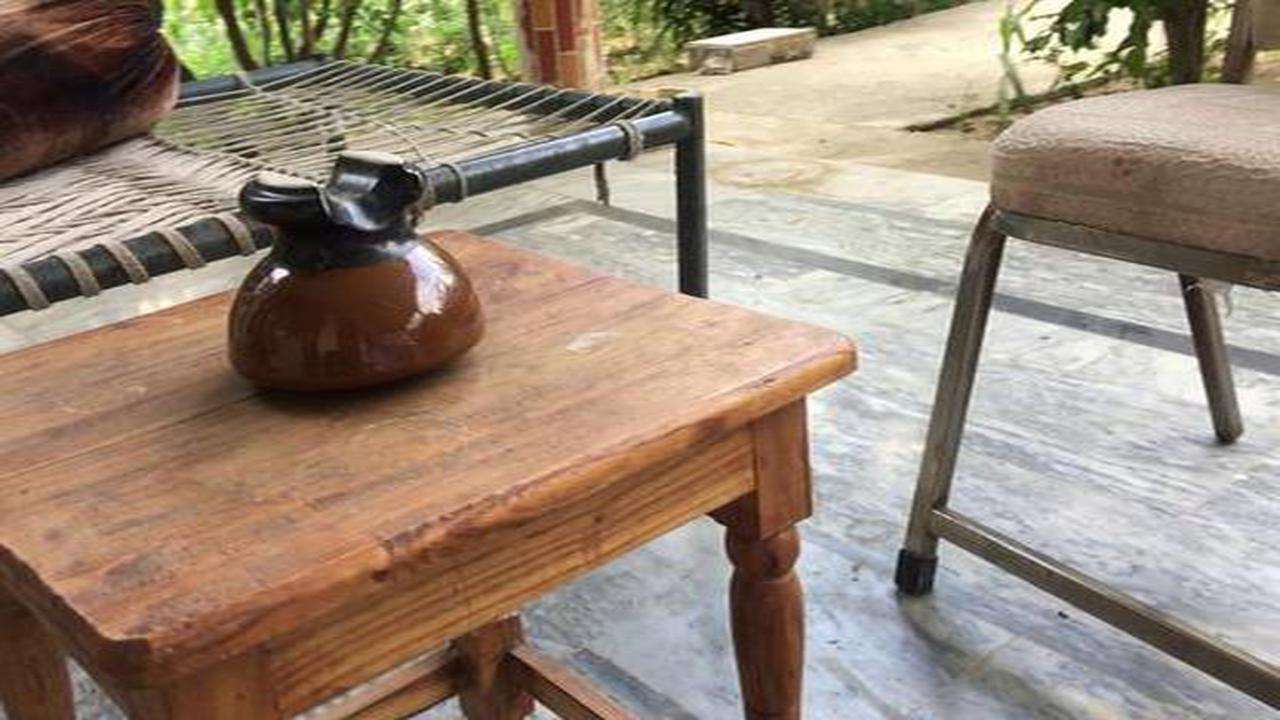insulator_pin: (204, 139, 505, 407)
